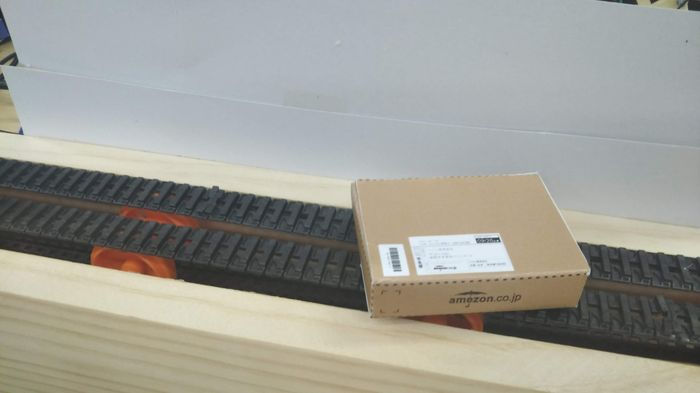box2: (345, 166, 591, 318)
